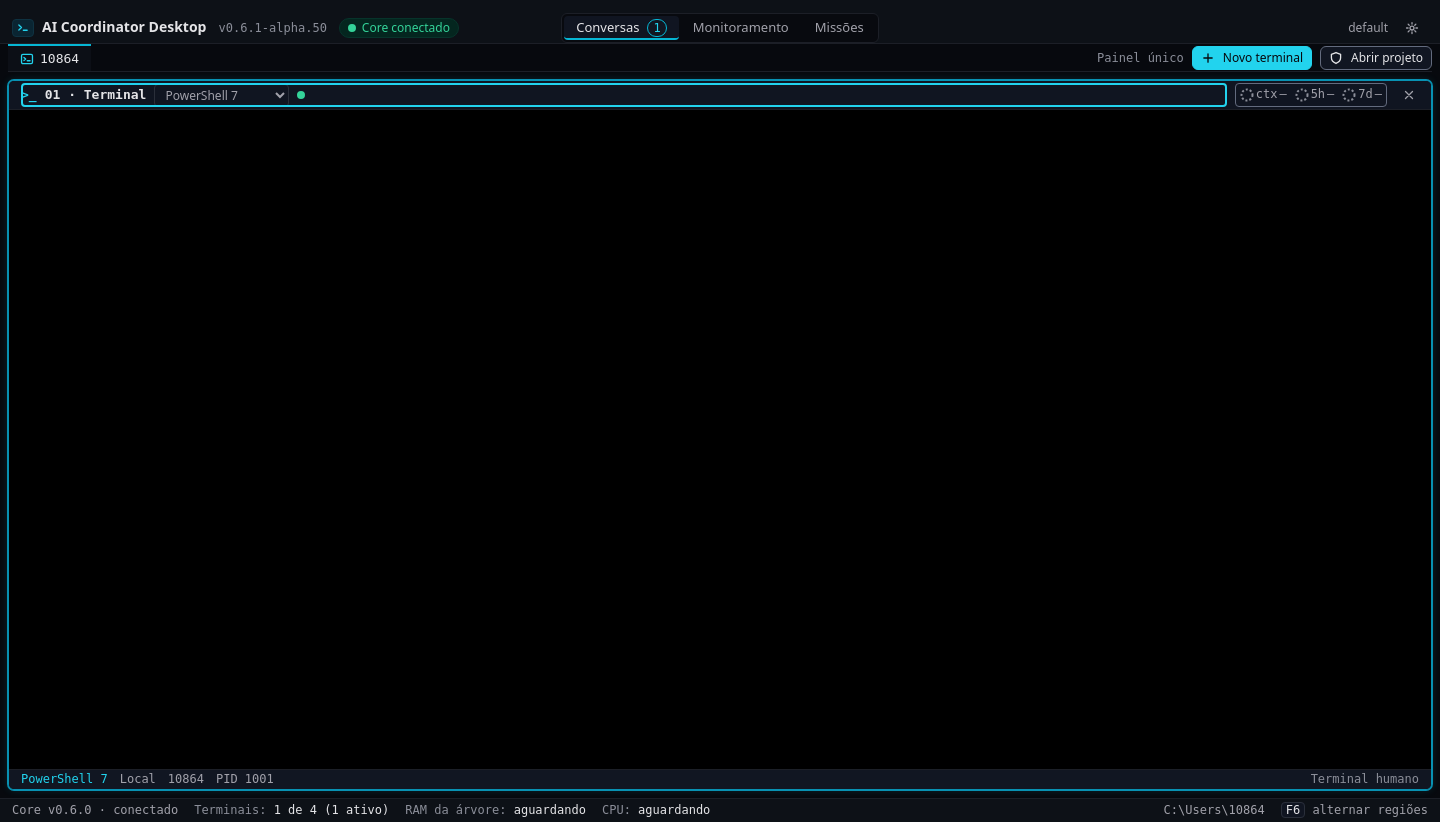
Test: App views › a failed close keeps the pane: no process is left without a pane to close it
Expected: the text "Core conectado" is shown, x1=339 y1=18 x2=459 y2=38
Step 1. Click the button named "Fechar Terminal 01" → {"x": 1409, "y": 95}, box x1=1395 y1=83 x2=1423 y2=107
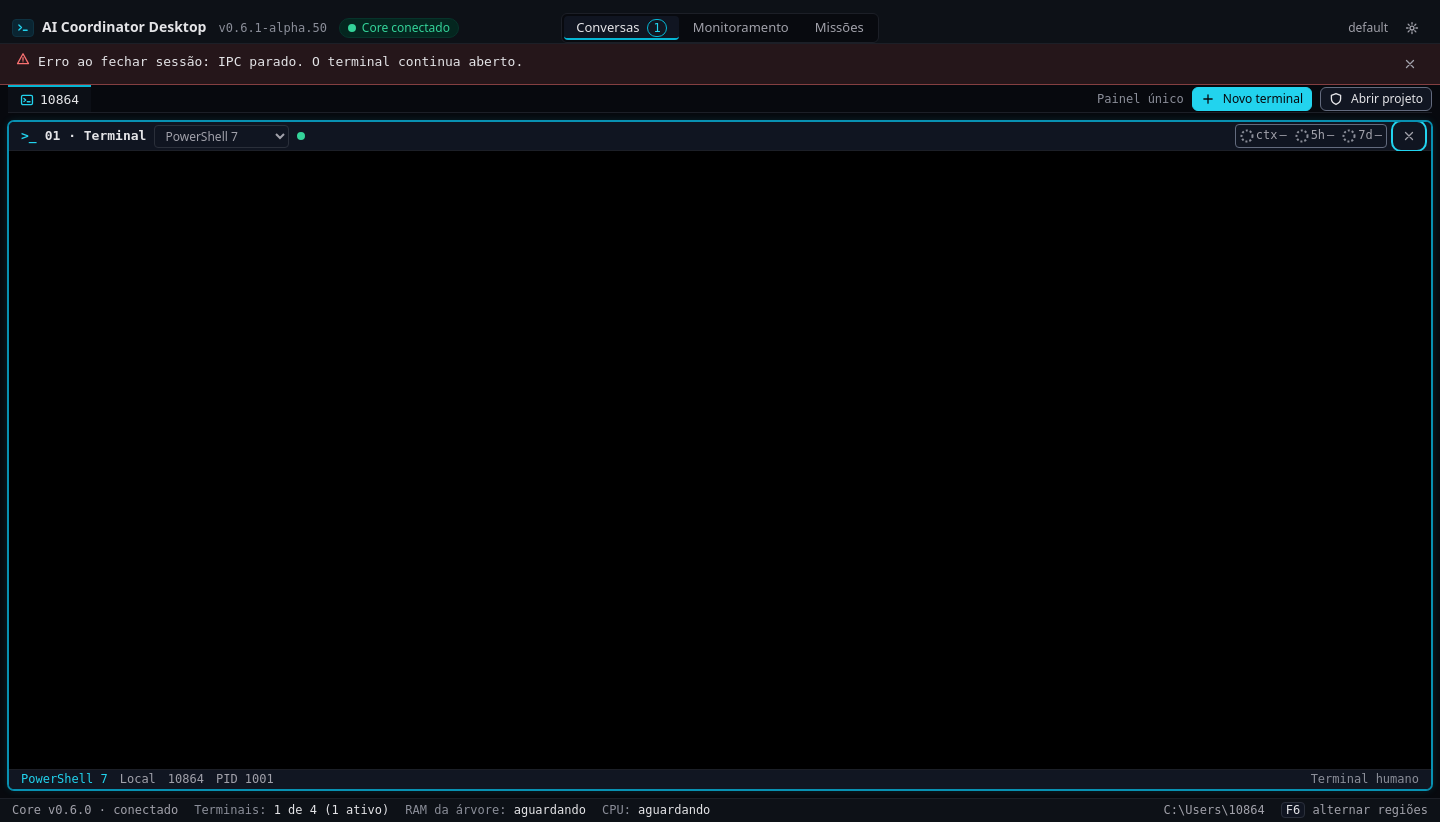
Expected: the text "O terminal continua aberto" is shown, x1=38 y1=54 x2=523 y2=69
